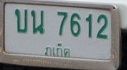txt20: (30, 9, 46, 35)
txt21: (14, 8, 28, 33)
